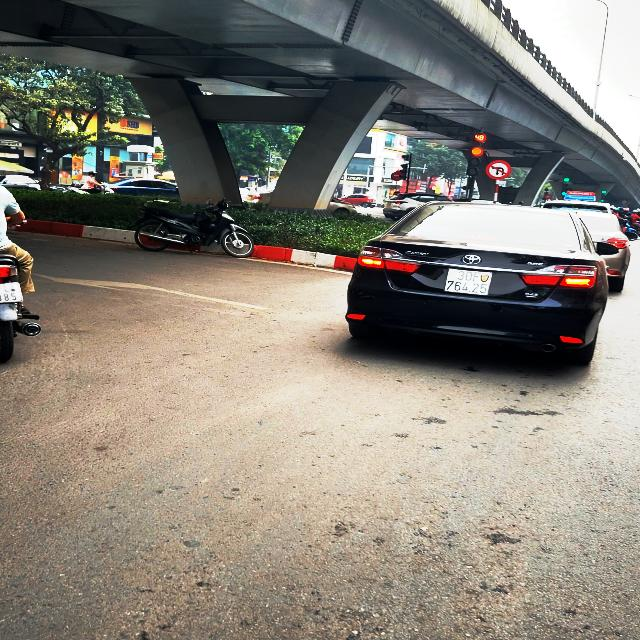license_plate: (446, 269, 494, 296)
